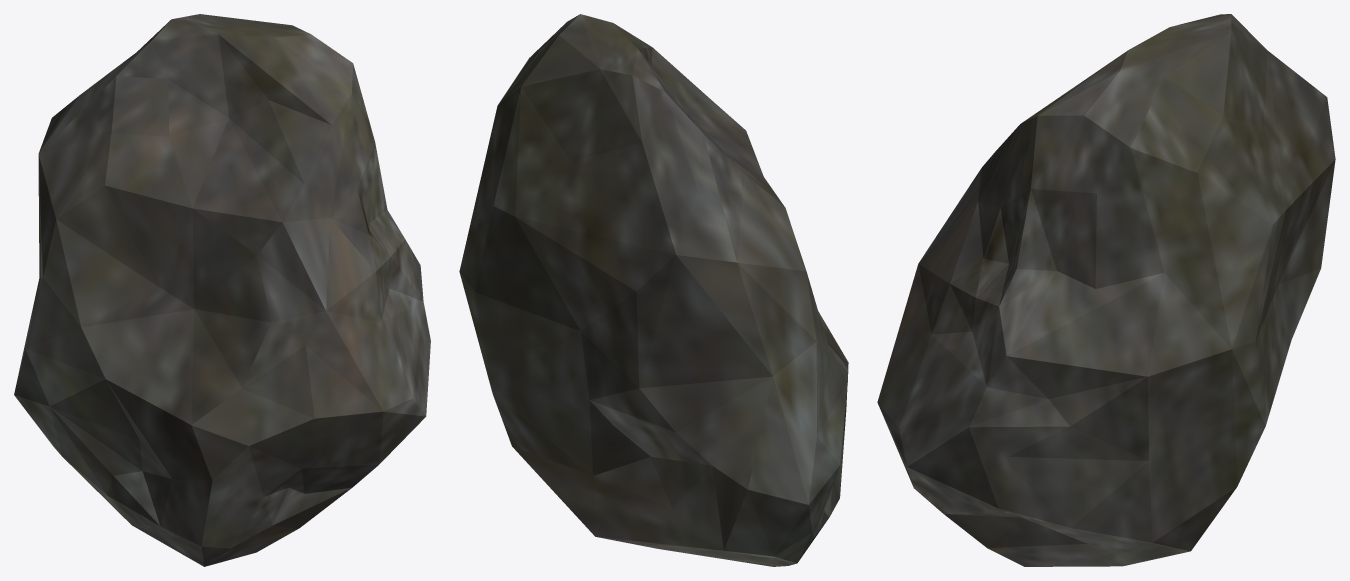
Rendered from rock1.gltf.
3 views of the same model, side by side, from view 1: azimuth 30°, elevation 25°; view 2: azimuth 150°, elevation 25°; view 3: azimuth 270°, elevation 25° (orthographic). The views are drawn at different scales.
Visible parts, largest first — view 1: rock1; view 2: rock1; view 3: rock1.
Part boxes in pixels (bbox=[...]): rock1: bbox=[14, 14, 430, 566]; rock1: bbox=[459, 14, 848, 566]; rock1: bbox=[877, 14, 1335, 566].
Size of the model in its own units: 2.65 by 3.68 by 2.74.
1 material, 1 textured.
